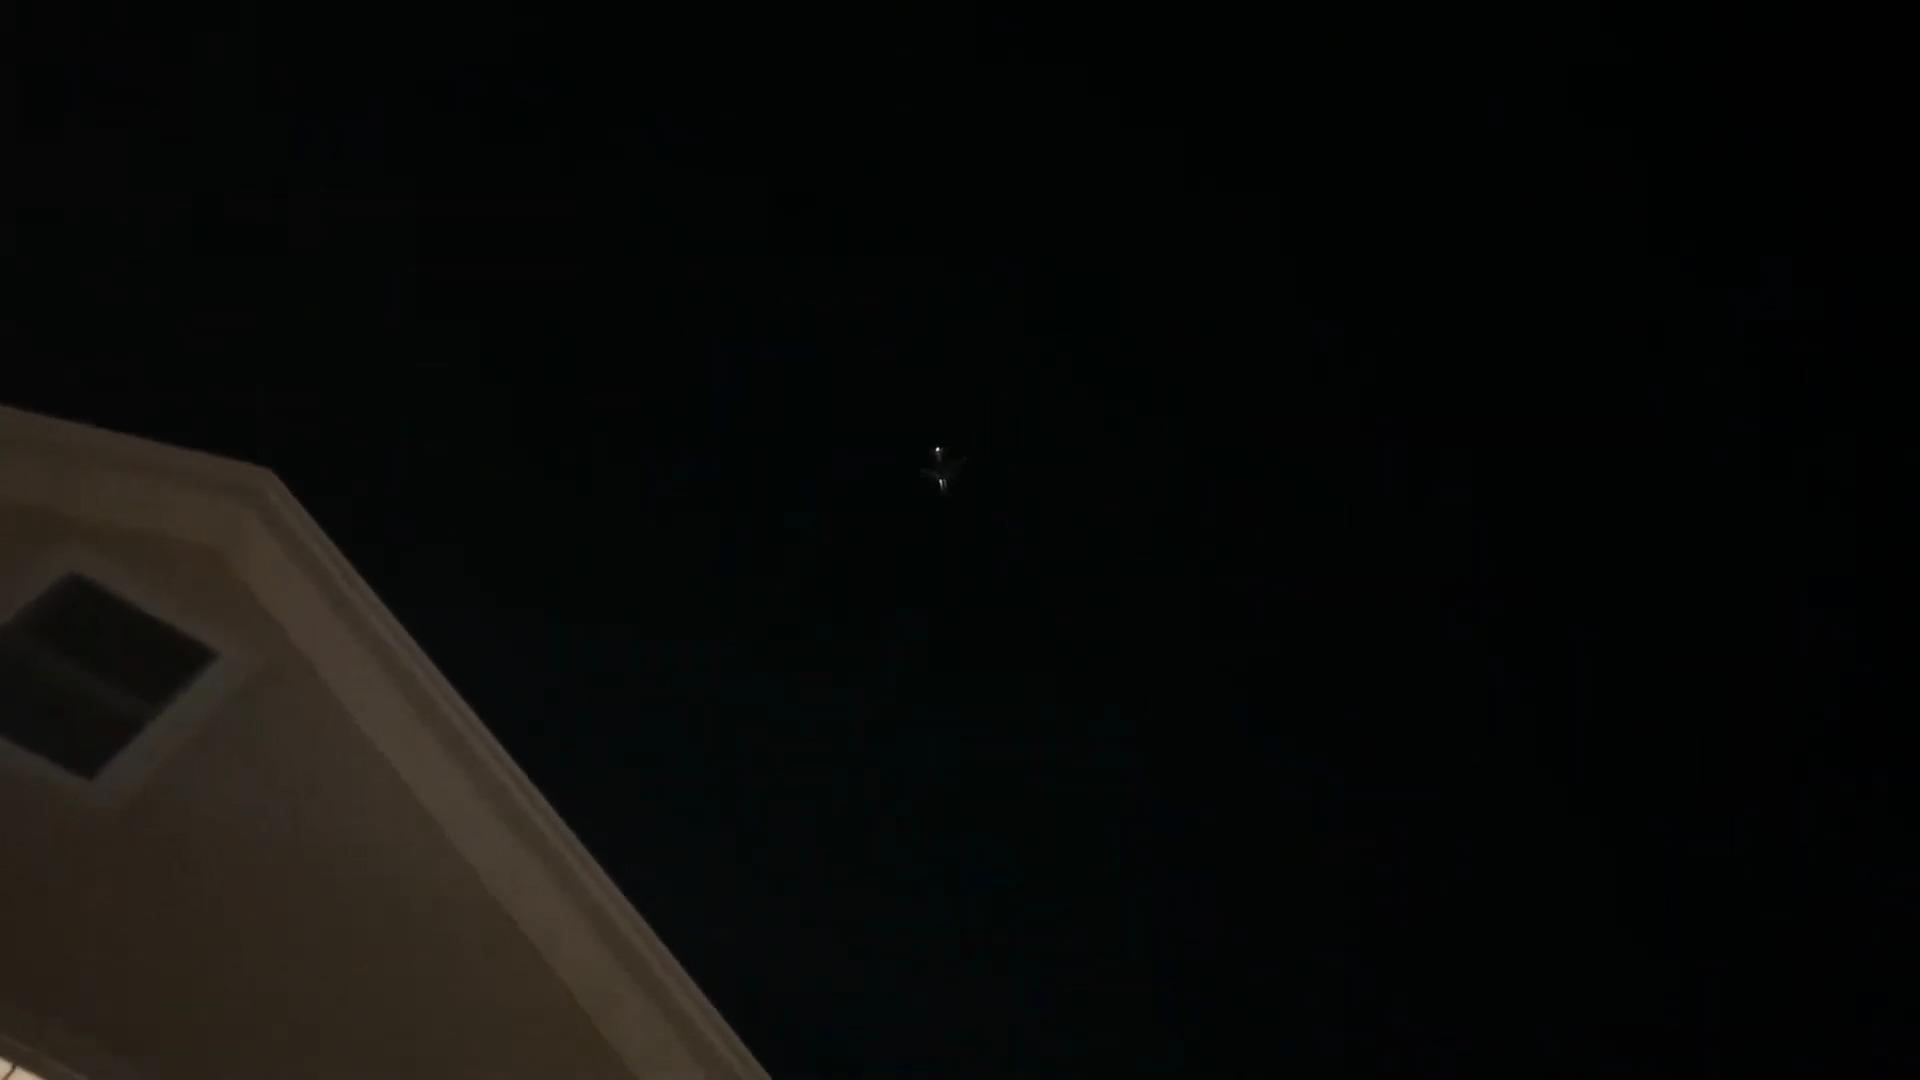Plane: (884, 429, 998, 512)
